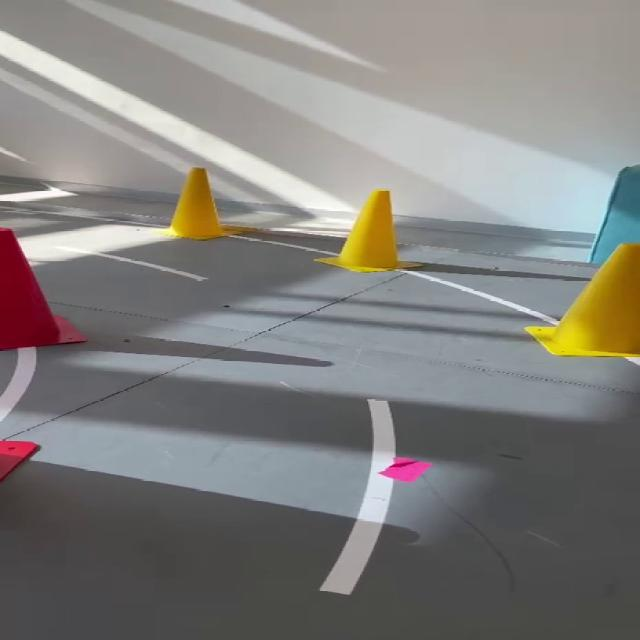Cone-red: (526, 244, 639, 357), (0, 228, 84, 349), (317, 189, 408, 272), (0, 228, 59, 349), (166, 168, 225, 238), (0, 440, 39, 482)
Cones-yellow: (526, 243, 639, 357), (317, 189, 414, 272), (170, 168, 225, 238), (170, 168, 225, 238)
